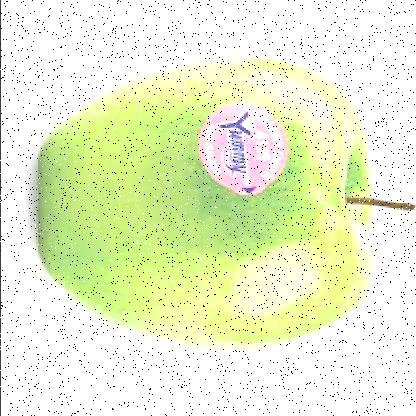apple: (33, 62, 379, 346)
